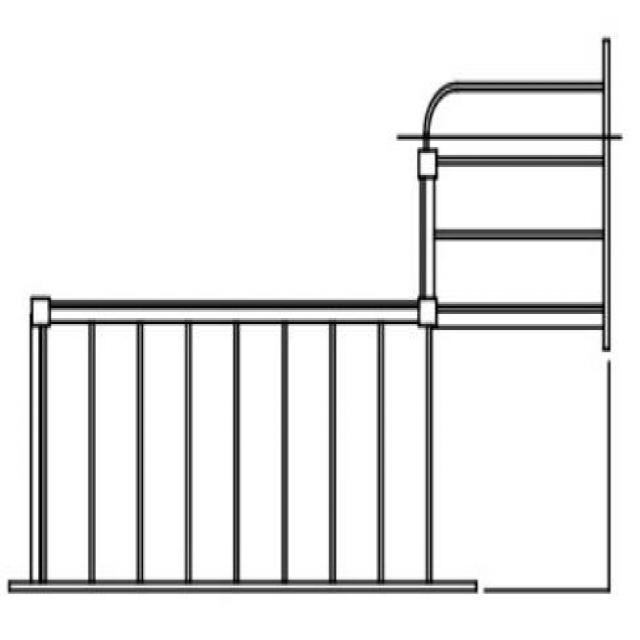stair: (8, 16, 623, 602)
